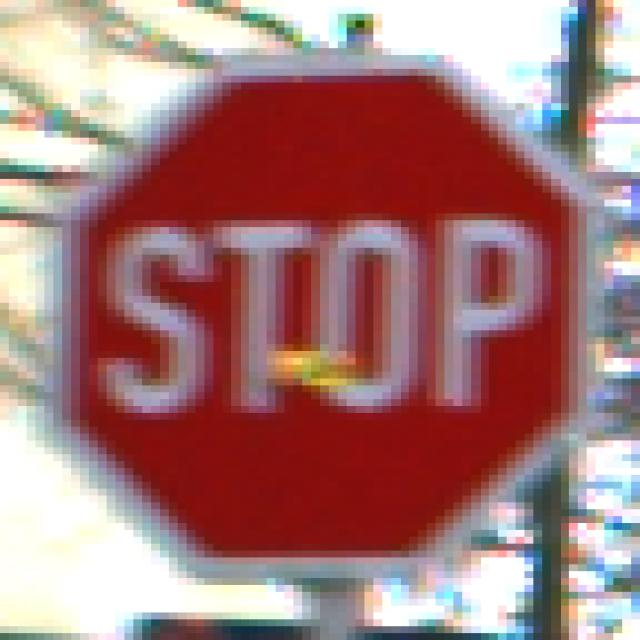STOP: (54, 56, 579, 579)
